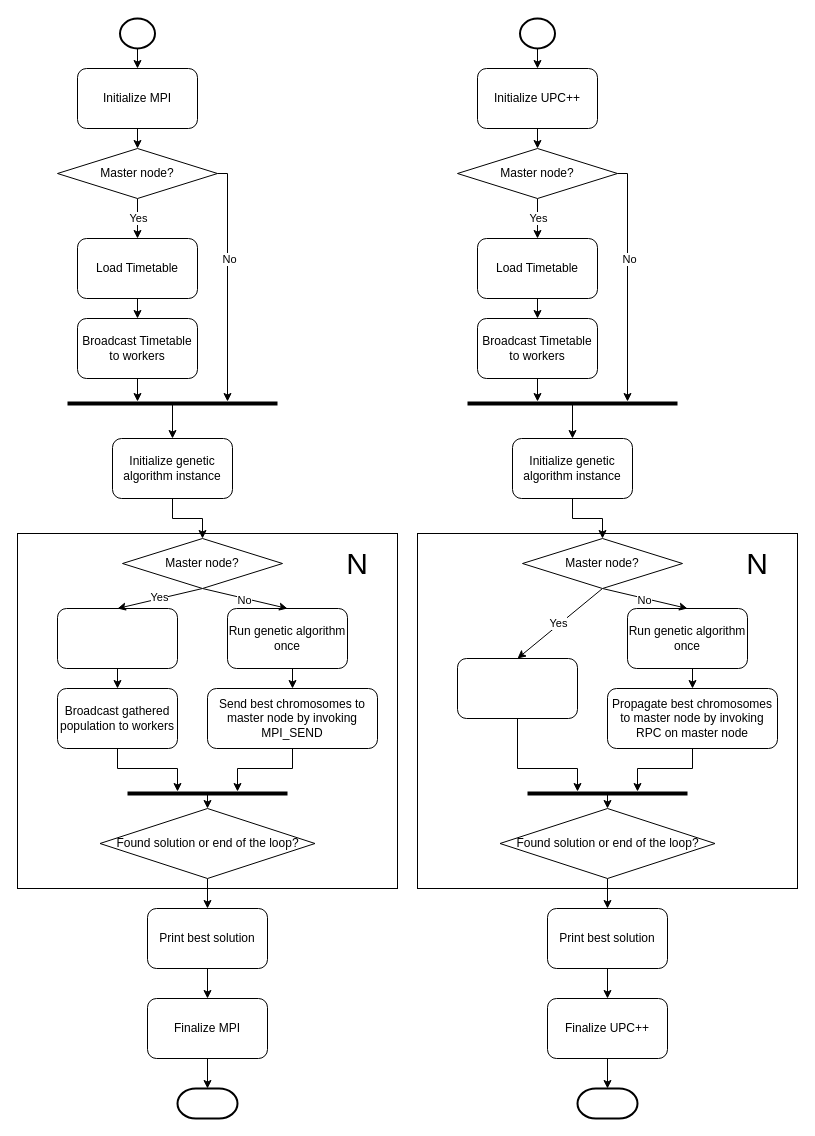
The diagram is 815 pixels wide and 1136 high, and some of its shapes have lost their labels. The box of each missing label's shape, as (x1, y1, x2, y2) in pixels:
Broadcast propagated population to workers: (456, 658, 578, 718)
Gather best chromosomes from workers by using MPI_RECEIVE: (56, 608, 178, 668)
